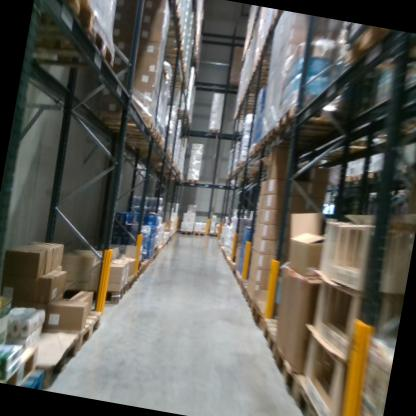pallet: (22, 10, 133, 88), (341, 26, 416, 90), (13, 323, 91, 381), (41, 293, 103, 358), (266, 341, 315, 409), (272, 93, 344, 138), (34, 0, 99, 47), (0, 340, 55, 387), (94, 104, 155, 138), (258, 319, 298, 366), (294, 380, 343, 416), (86, 274, 132, 310), (108, 122, 164, 148), (248, 301, 279, 333), (20, 368, 51, 390), (240, 286, 258, 314), (120, 272, 139, 294), (235, 273, 251, 298), (130, 264, 144, 282), (184, 173, 201, 187), (176, 225, 194, 237), (190, 227, 207, 239), (206, 229, 221, 240), (207, 128, 221, 137)
